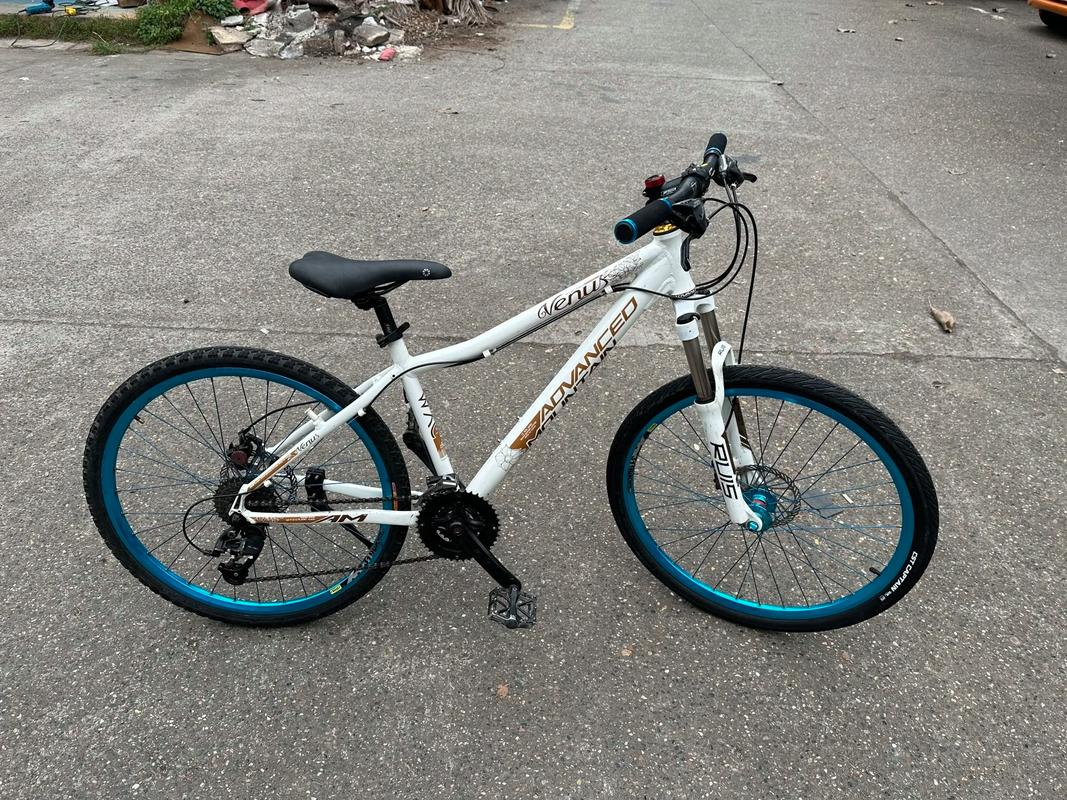单车: (62, 125, 990, 662)
